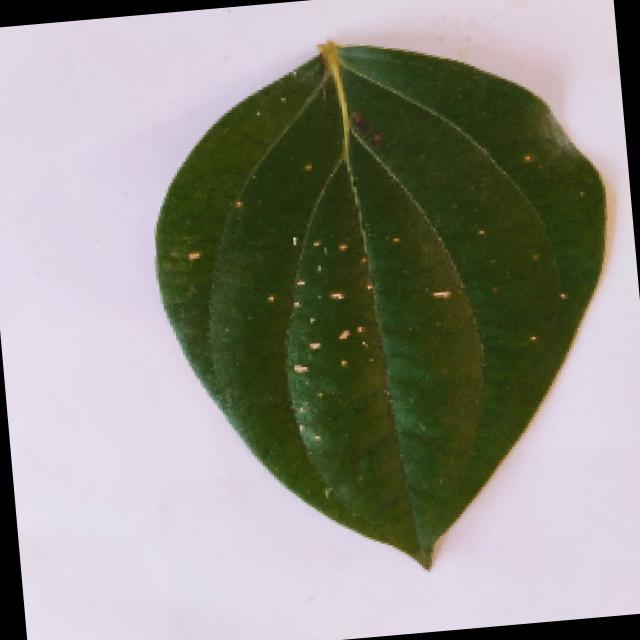pollu-disease: (129, 21, 640, 588)
